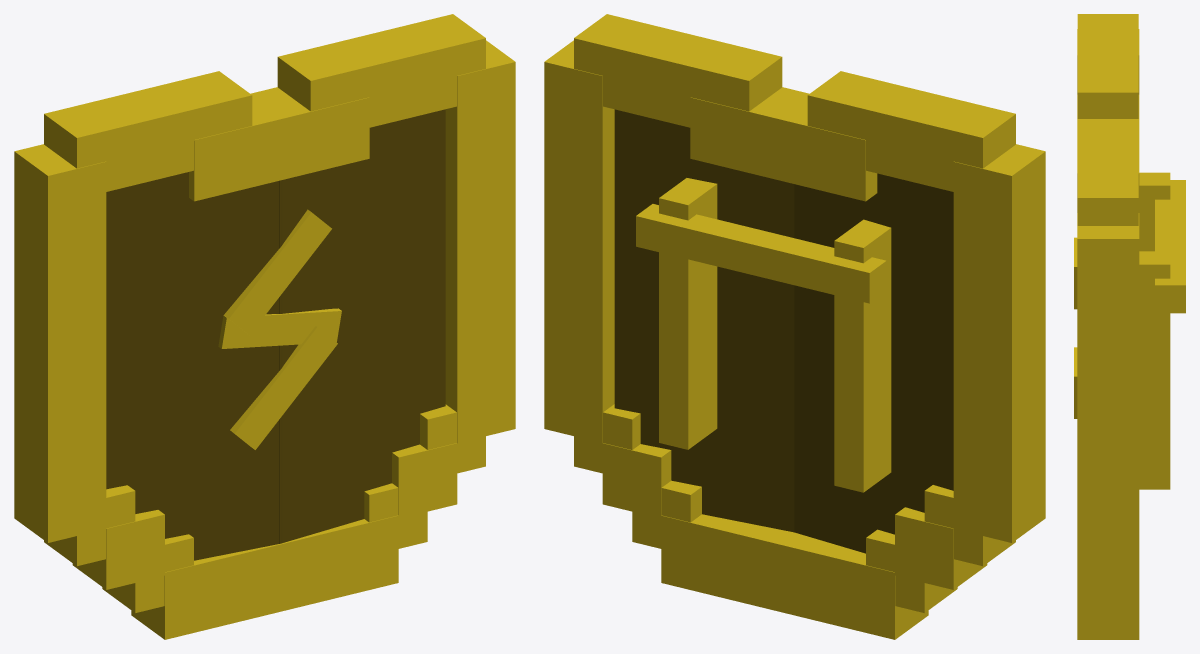
Rendered from ElectricShield.fbx.
The picture shows the model from 3 angles, left to right: view 1: azimuth 30°, elevation 25°; view 2: azimuth 150°, elevation 25°; view 3: azimuth 270°, elevation 25°; orthographic projection. The views are drawn at different scales.
Parts seen in each view (by area): view 1: Cube.014, Cube.001, Cube.023; view 2: Cube.014, Cube.001, Cube.017; view 3: Cube.014, Cube.017, Cube.023.
Part boxes in pixels (x1,y1,x2,y2): Cube.014: [14, 14, 515, 639]; Cube.001: [106, 109, 445, 560]; Cube.023: [218, 209, 341, 449]; Cube.014: [544, 14, 1045, 639]; Cube.001: [614, 109, 953, 553]; Cube.017: [636, 178, 891, 492]; Cube.014: [1077, 14, 1139, 639]; Cube.017: [1139, 172, 1185, 489]; Cube.023: [1074, 237, 1077, 418].
Bounding box in the file's own units: 160 × 171 × 36.
